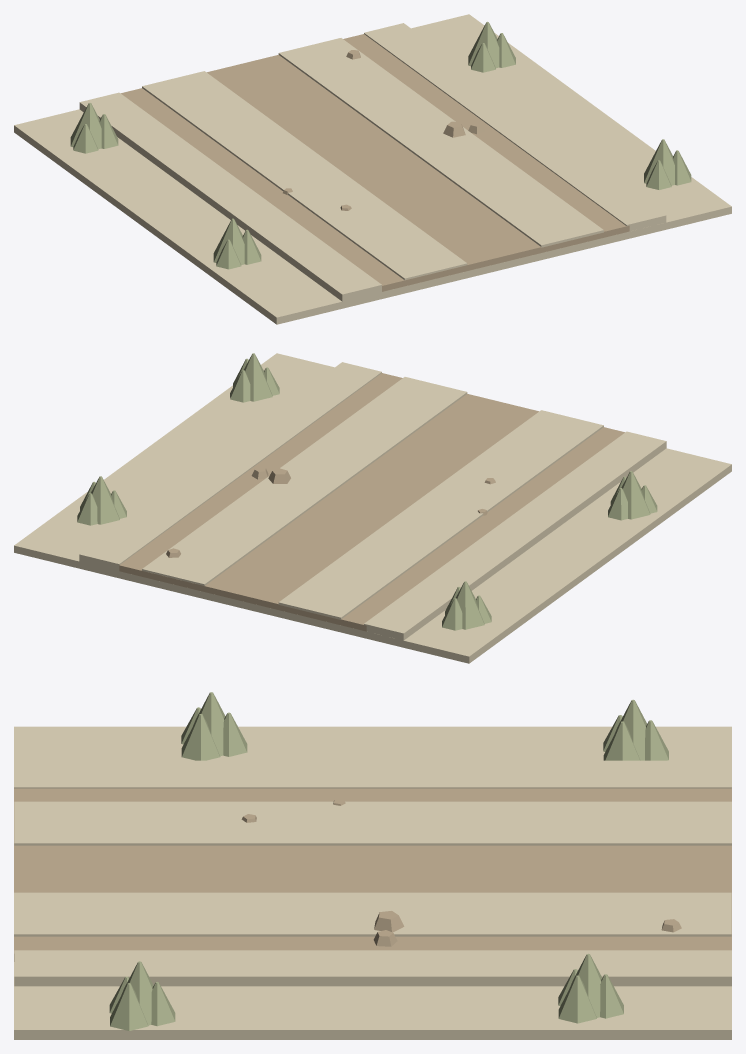
The model's file is radio-telescope-array-and-field-station-track-and-verg-ee9c3d03__37647.glb.
3 views of the same model, one above another, from view 1: azimuth 30°, elevation 25°; view 2: azimuth 150°, elevation 25°; view 3: azimuth 270°, elevation 25° (orthographic). The views are drawn at different scales.
Visible parts, largest first — view 1: track-and-verge-module; view 2: track-and-verge-module; view 3: track-and-verge-module.
Part boxes in pixels (<box>): track-and-verge-module: <box>14,14,731,324</box>; track-and-verge-module: <box>14,353,731,663</box>; track-and-verge-module: <box>14,692,731,1039</box>.
Bounding box in the file's own units: 8.03 × 0.7698 × 8.
